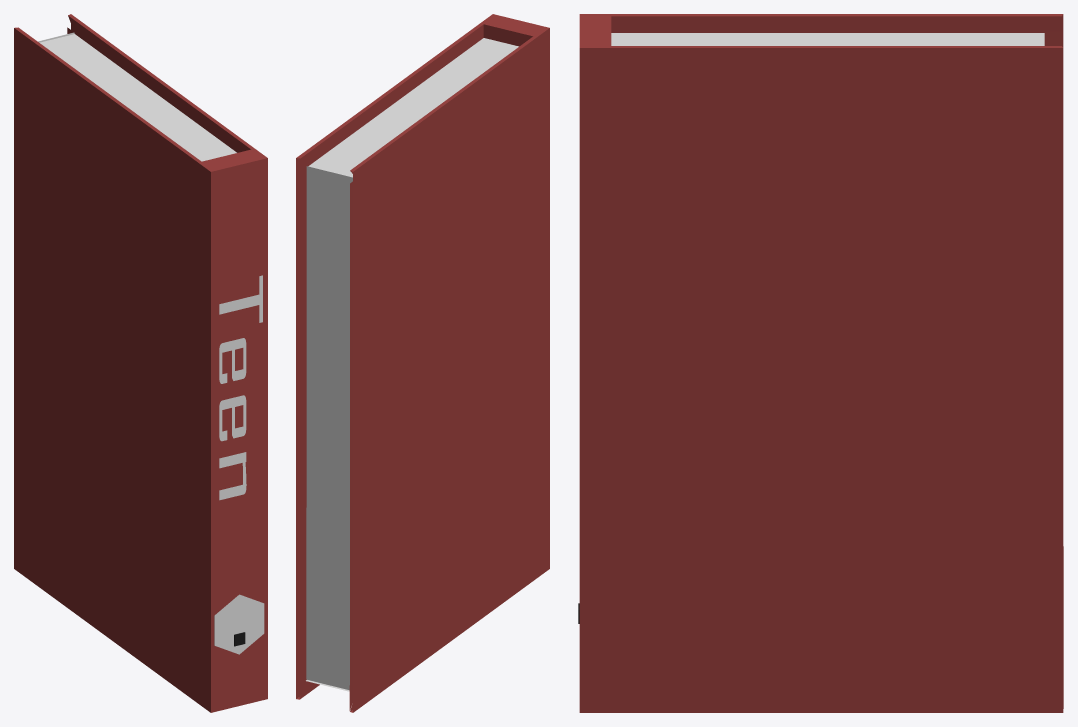
Rendered from Book_Teen.fbx.
The picture shows the model from 3 angles, left to right: view 1: azimuth 30°, elevation 25°; view 2: azimuth 150°, elevation 25°; view 3: azimuth 270°, elevation 25°; orthographic projection. The views are drawn at different scales.
Parts seen in each view (by area): view 1: Book, Text, Cylinder; view 2: Book; view 3: Book.
Part boxes in pixels (x1,y1,x2,y2): Book: [14, 14, 267, 712]; Text: [219, 275, 262, 500]; Cylinder: [214, 594, 264, 654]; Book: [296, 14, 549, 712]; Book: [579, 14, 1063, 712].
Size of the model in its own units: 6.67 by 60.59 by 40.09.
